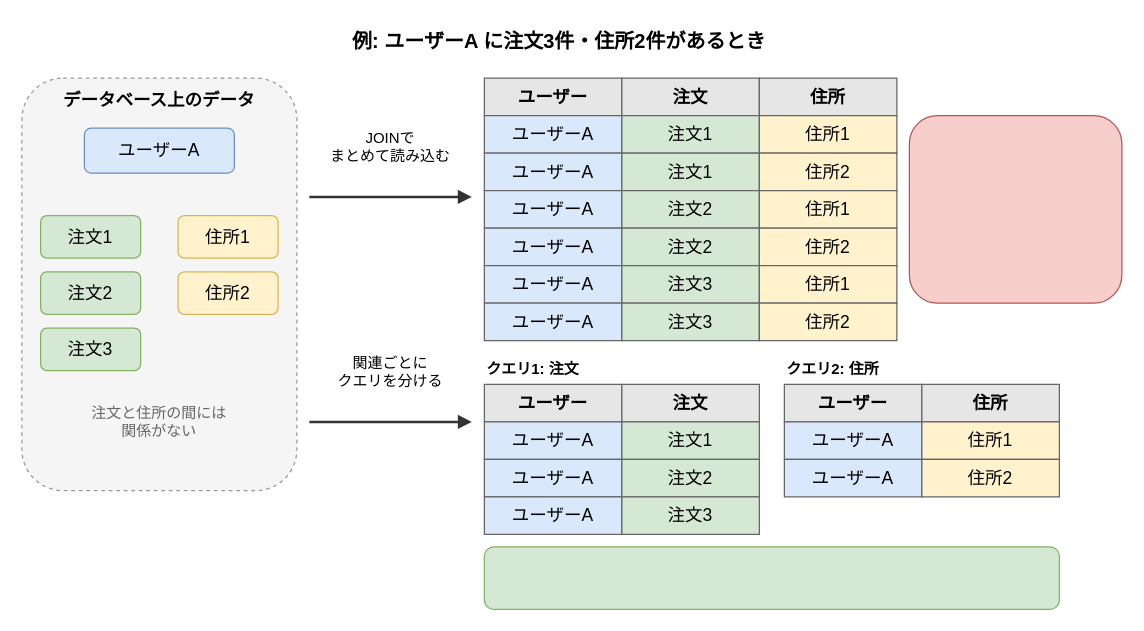
Image size: 1144x631. Some labels were removed from this diagram. Here are the shapes that lost their labels. From the top down, the centre of each, then its label:
At point 1015,208: "3 × 2 = 6行 ユーザーAの列が 6回重複する 件数が増えると 掛け算で増える".
At point 771,577: "3 + 2 = 5行 （足し算で済む） ただしクエリの回数は2回に増える".
